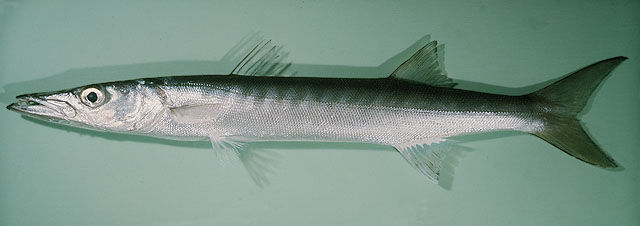fish: (5, 37, 629, 186)
